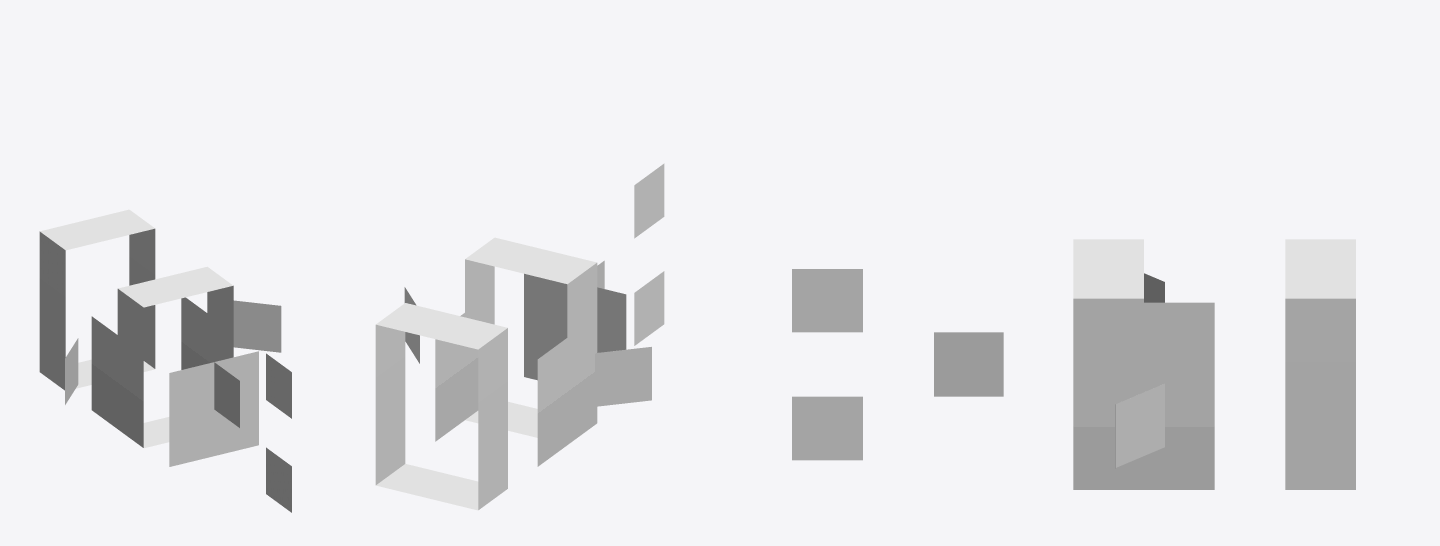
File: pattern_a.gltf
3 renders of one model, left to right at view 1: azimuth 30°, elevation 25°; view 2: azimuth 150°, elevation 25°; view 3: azimuth 270°, elevation 25°, orthographic. The views are drawn at different scales.
Parts seen in each view (by area): view 1: body, tail, right_fin, left_fin; view 2: body, tail, left_fin, right_fin; view 3: body, tail, right_fin.
Part boxes in pixels (left/top/right/bottom): body: left=39, top=209, right=258, bottom=466; tail: left=214, top=353, right=291, bottom=512; right_fin: left=233, top=300, right=281, bottom=352; left_fin: left=65, top=338, right=78, bottom=404; body: left=375, top=237, right=626, bottom=510; tail: left=597, top=163, right=664, bottom=345; left_fin: left=595, top=346, right=651, bottom=406; right_fin: left=404, top=287, right=419, bottom=363; body: left=1073, top=239, right=1355, bottom=489; tail: left=792, top=269, right=1003, bottom=460; right_fin: left=1115, top=383, right=1164, bottom=467.
Size of the model in its own units: 0.3018 by 0.4375 by 0.625.
1 material, 1 textured.
